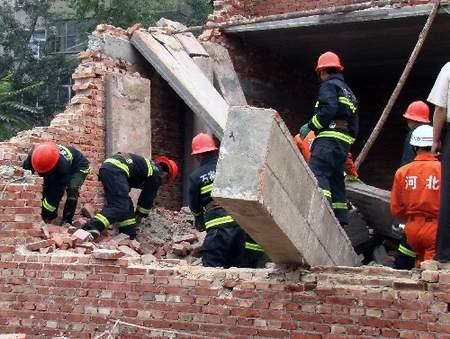helmet: (30, 141, 62, 174), (410, 125, 439, 154), (315, 52, 343, 81), (402, 101, 433, 127), (191, 132, 217, 162), (152, 157, 178, 186)
